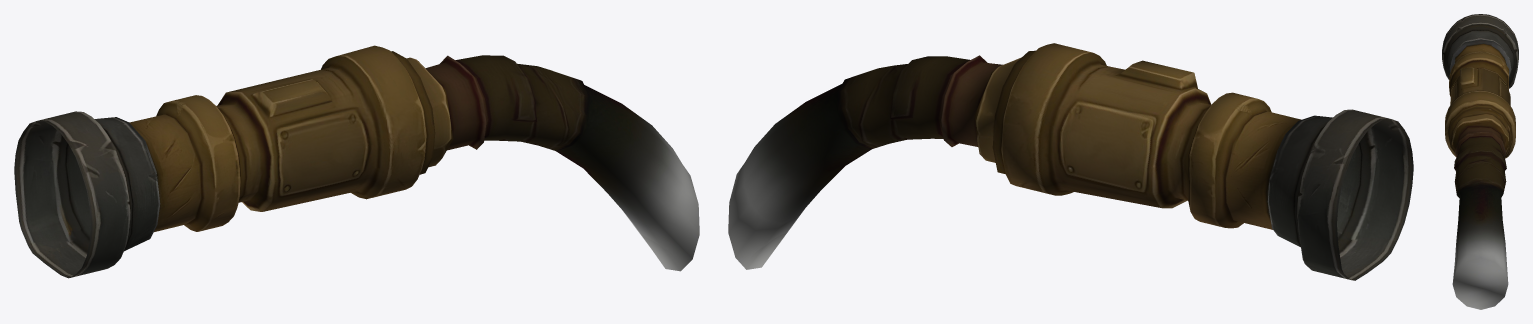
Rendered from tripo_convert_79615bfe-22f4-407e-bf12-3f38d8326060.fbx.
The picture shows the model from 3 angles, left to right: view 1: azimuth 30°, elevation 25°; view 2: azimuth 150°, elevation 25°; view 3: azimuth 270°, elevation 25°; orthographic projection. The views are drawn at different scales.
Visible parts, largest first — view 1: tripo_node_79615bfe; view 2: tripo_node_79615bfe; view 3: tripo_node_79615bfe.
Boxes of the visible parts, x1,y1,x2,y2 form: tripo_node_79615bfe: (14,45,699,278); tripo_node_79615bfe: (728,43,1413,280); tripo_node_79615bfe: (1442,14,1518,309).
Bounding box in the file's own units: 99.8 × 21.29 × 44.73.
Materials: 1 (1 with a texture image).
